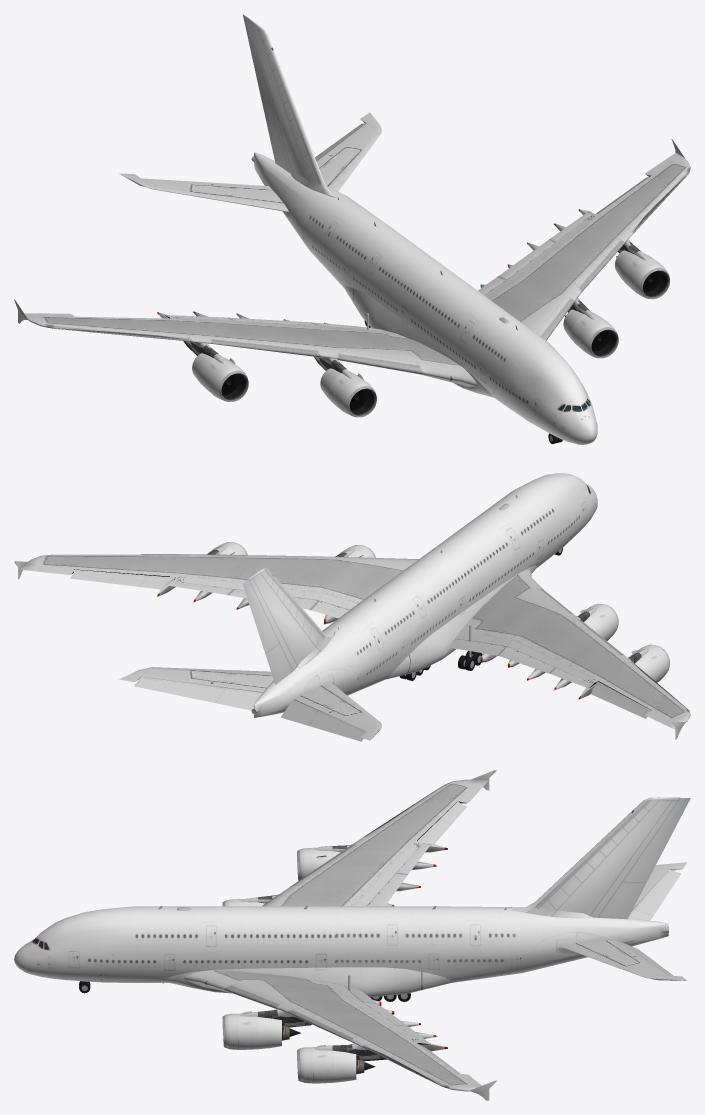
The picture shows the model from 3 angles, top to bottom: view 1: azimuth 30°, elevation 25°; view 2: azimuth 150°, elevation 25°; view 3: azimuth 270°, elevation 25°; orthographic projection. The views are drawn at different scales.
Parts seen in each view (by area): view 1: body; view 2: body, gear; view 3: body.
Part boxes in pixels (<box>): body: <box>14,14,690,444</box>; body: <box>14,473,690,741</box>; gear: <box>399,548,562,680</box>; body: <box>14,770,690,1100</box>.
Size of the model in its own units: 79.05 by 22.93 by 72.72.
Materials: 7 (4 with a texture image).
